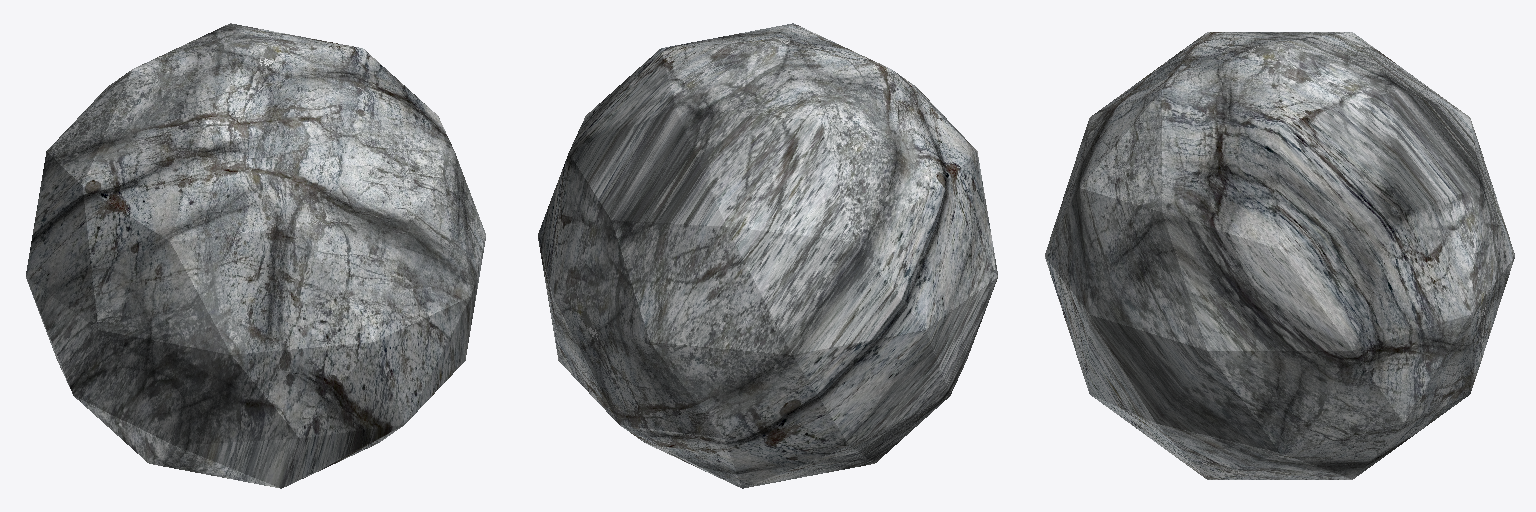
3 renders of one model, left to right at view 1: azimuth 30°, elevation 25°; view 2: azimuth 150°, elevation 25°; view 3: azimuth 270°, elevation 25°, orthographic.
Visible parts, largest first — view 1: Icosphere; view 2: Icosphere; view 3: Icosphere.
Part boxes in pixels (bbox=[...]): Icosphere: bbox=[26, 23, 485, 488]; Icosphere: bbox=[538, 23, 997, 488]; Icosphere: bbox=[1045, 32, 1514, 479].
Size of the model in its own units: 5.71 by 6 by 6.
Materials: 1 (1 with a texture image).